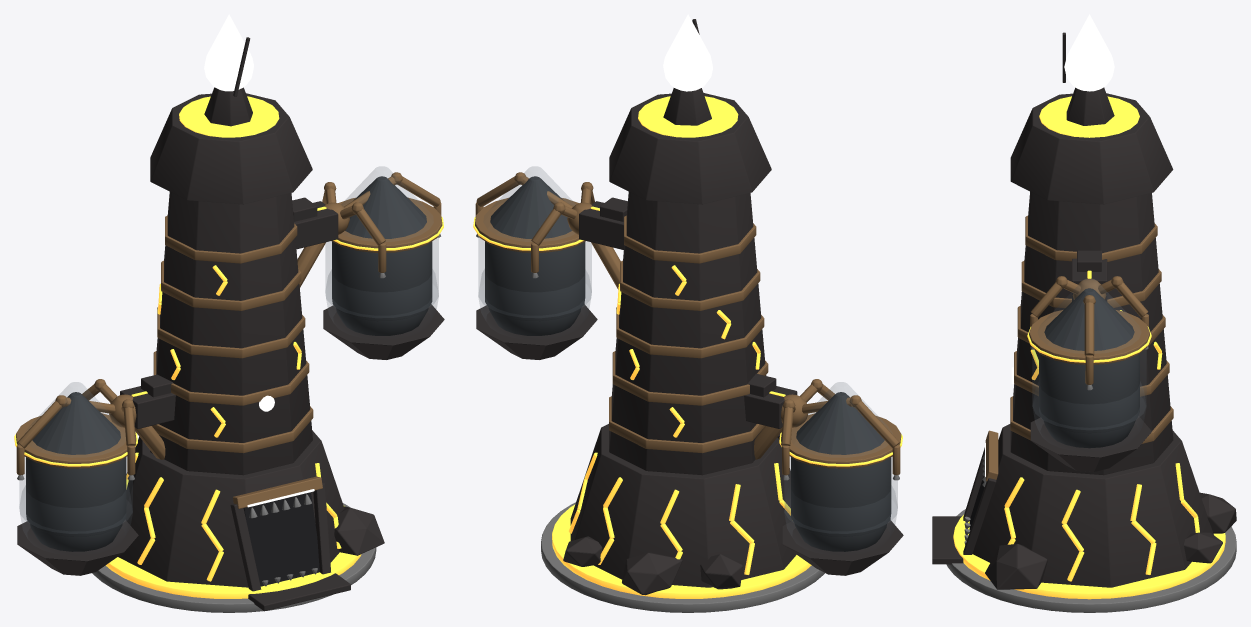
File: EMBER_Vat_T2.glb
The picture shows the model from 3 angles, left to right: view 1: azimuth 30°, elevation 25°; view 2: azimuth 150°, elevation 25°; view 3: azimuth 270°, elevation 25°; orthographic projection.
Parts seen in each view (by area): view 1: EMBER_Vat_T2; view 2: EMBER_Vat_T2; view 3: EMBER_Vat_T2.
Boxes of the visible parts, x1,y1,x2,y2 form: EMBER_Vat_T2: [14, 14, 444, 612]; EMBER_Vat_T2: [473, 14, 903, 612]; EMBER_Vat_T2: [932, 14, 1236, 612].
Bounding box in the file's own units: 5.82 × 7.05 × 3.62.
